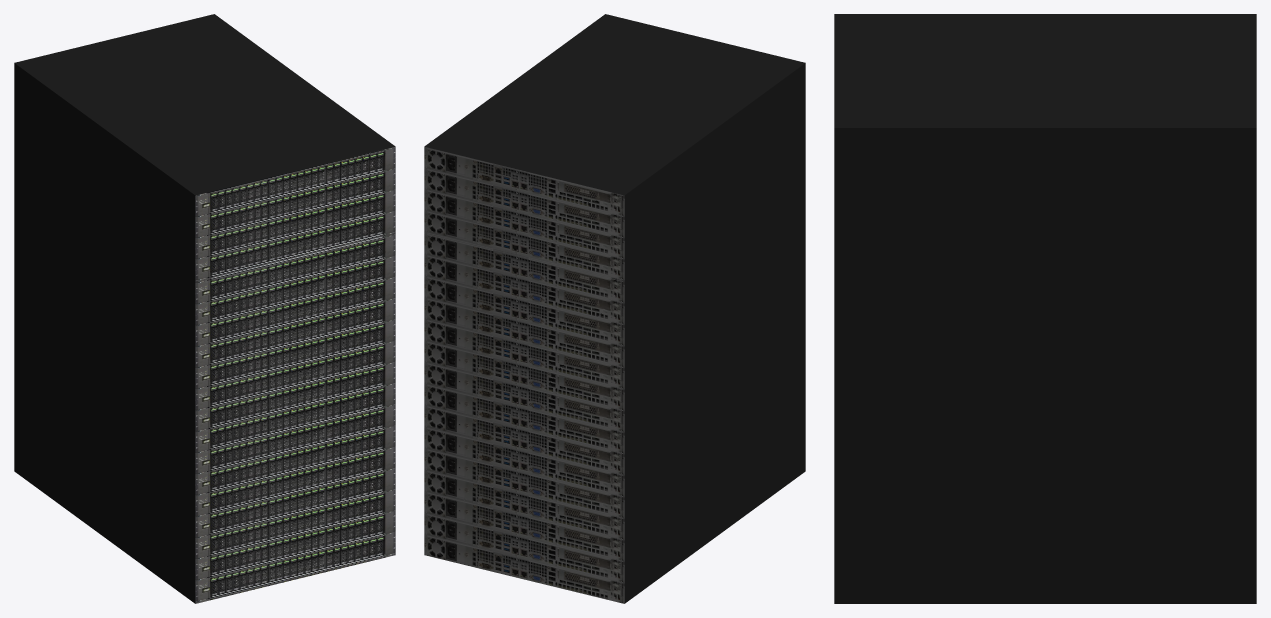
Rendered from SDR19.fbx.
3 views of the same model, side by side, from view 1: azimuth 30°, elevation 25°; view 2: azimuth 150°, elevation 25°; view 3: azimuth 270°, elevation 25° (orthographic). The views are drawn at different scales.
Visible parts, largest first — view 1: SDR19; view 2: SDR19; view 3: SDR19.
Boxes of the visible parts, left/top/right/bottom form: SDR19: left=14, top=14, right=395, bottom=603; SDR19: left=424, top=14, right=805, bottom=603; SDR19: left=834, top=14, right=1256, bottom=603.
Bounding box in the file's own units: 434 × 846 × 680.
3 materials, 2 textured.
